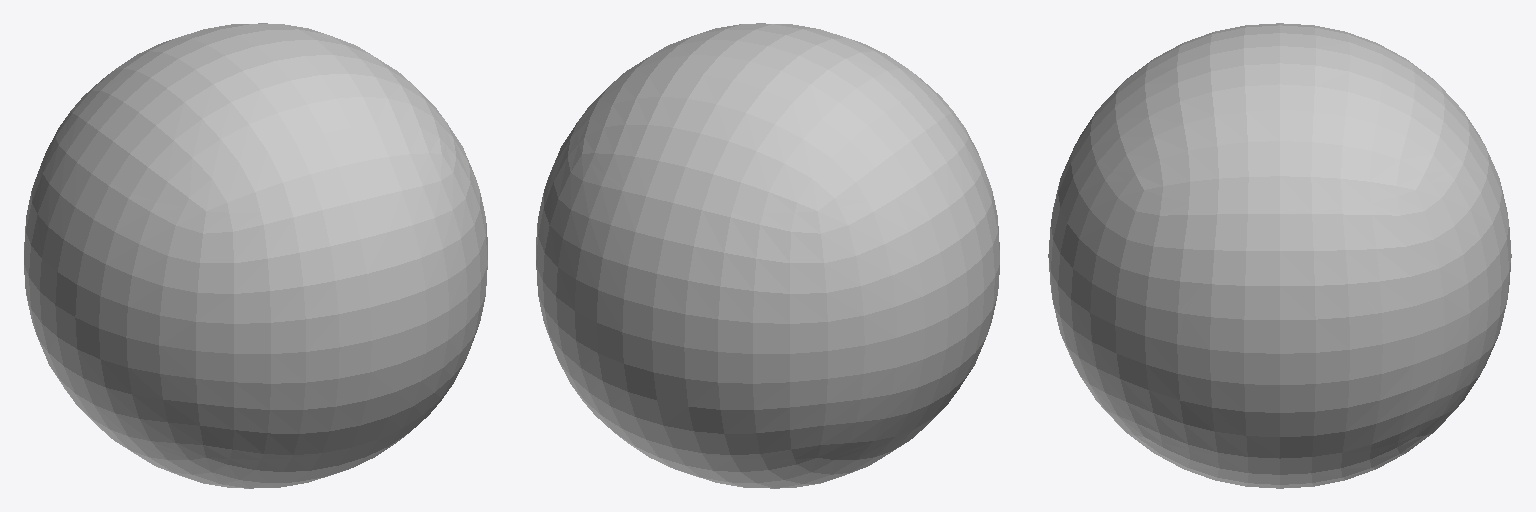
The model's file is shar_1200.obj.
3 views of the same model, side by side, from view 1: azimuth 30°, elevation 25°; view 2: azimuth 150°, elevation 25°; view 3: azimuth 270°, elevation 25° (orthographic).
Visible parts, largest first — view 1: Roundcube.001; view 2: Roundcube.001; view 3: Roundcube.001.
Boxes of the visible parts, <box> form: Roundcube.001: <box>24,23,487,488</box>; Roundcube.001: <box>536,23,999,488</box>; Roundcube.001: <box>1048,23,1511,488</box>.
Bounding box in the file's own units: 1.99 × 1.99 × 1.99.